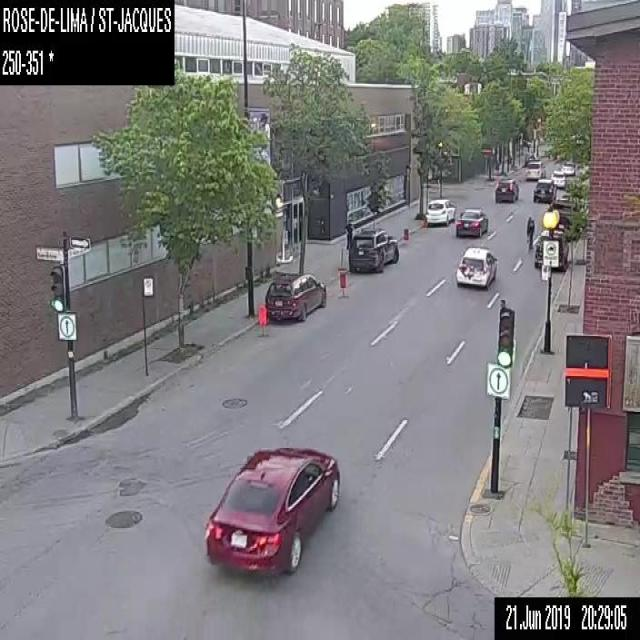construction: (256, 306, 268, 341), (336, 267, 348, 299), (419, 216, 426, 228), (402, 226, 408, 238)
pedestrian: (526, 215, 534, 248), (344, 219, 352, 249)
vehicle: (205, 445, 340, 571), (264, 269, 326, 320), (348, 226, 399, 270), (456, 244, 496, 284), (533, 229, 570, 265), (456, 206, 488, 236), (425, 197, 455, 225), (532, 176, 556, 202), (495, 176, 519, 201), (550, 167, 568, 186), (525, 160, 543, 177), (560, 159, 575, 174)
